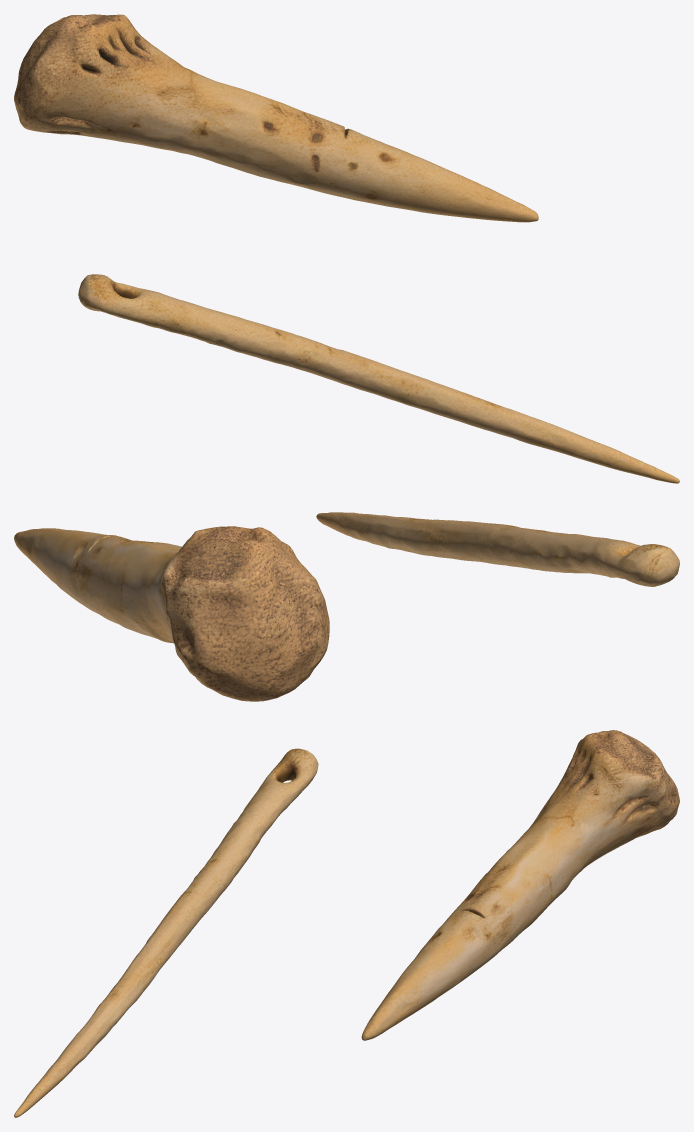
File: boneTools-v1.glb
3 renders of one model, top to bottom at view 1: azimuth 30°, elevation 25°; view 2: azimuth 150°, elevation 25°; view 3: azimuth 270°, elevation 25°, orthographic. The views are drawn at different scales.
Visible parts, largest first — view 1: tripo_node_b4de0187-9701-4cbb-bf83-bf507d4d5faa; view 2: tripo_node_b4de0187-9701-4cbb-bf83-bf507d4d5faa; view 3: tripo_node_b4de0187-9701-4cbb-bf83-bf507d4d5faa.
Boxes of the visible parts, x1=… form: tripo_node_b4de0187-9701-4cbb-bf83-bf507d4d5faa: x1=14, y1=14, x2=679, y2=483; tripo_node_b4de0187-9701-4cbb-bf83-bf507d4d5faa: x1=14, y1=512, x2=679, y2=701; tripo_node_b4de0187-9701-4cbb-bf83-bf507d4d5faa: x1=14, y1=730, x2=679, y2=1117.
Bounding box in the file's own units: 0.9375 × 0.5274 × 1.2.
1 material, 1 textured.
